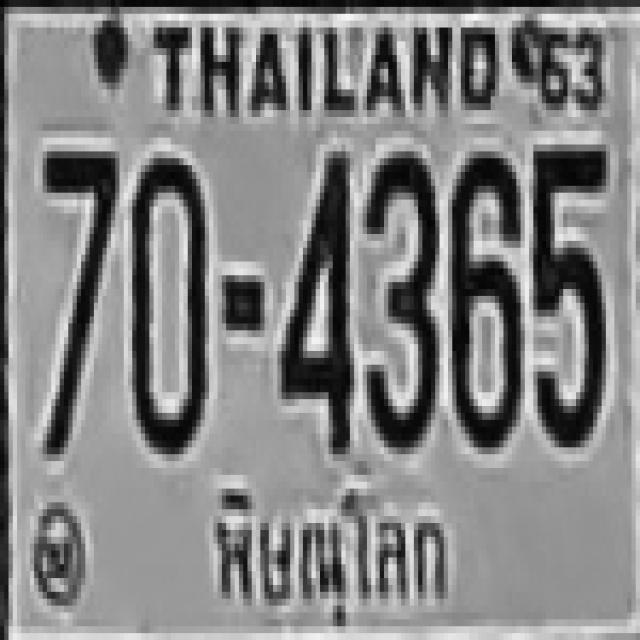0: (128, 152, 205, 448)
3: (363, 148, 435, 444)
4: (277, 144, 350, 448)
5: (529, 137, 602, 440)
6: (450, 148, 519, 444)
7: (38, 148, 116, 451), (38, 144, 116, 358)
Phitsanulok: (199, 473, 458, 633)
